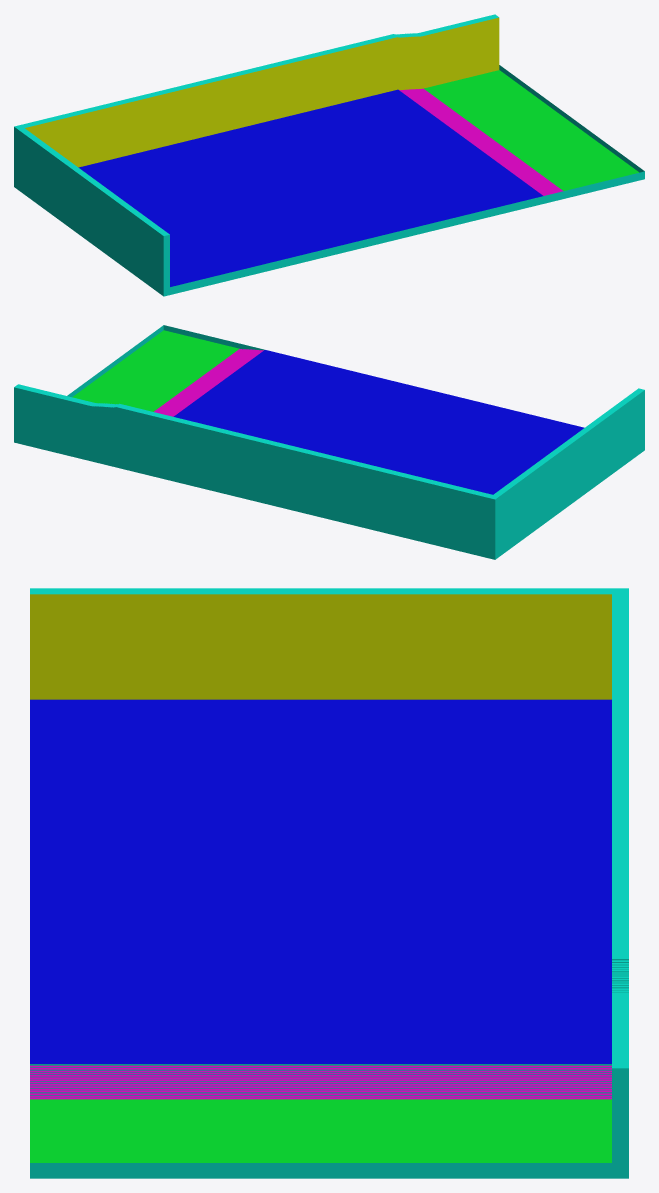
3 renders of one model, top to bottom at view 1: azimuth 30°, elevation 25°; view 2: azimuth 150°, elevation 25°; view 3: azimuth 270°, elevation 25°, orthographic. The views are drawn at different scales.
Parts seen in each view (by area): view 1: Cube; view 2: Cube; view 3: Cube.
Boxes of the visible parts, left/top/right/bottom form: Cube: left=14, top=14, right=644, bottom=296; Cube: left=14, top=325, right=644, bottom=559; Cube: left=30, top=588, right=628, bottom=1178.
Size of the model in its own units: 23.96 by 12.92 by 2.87.
